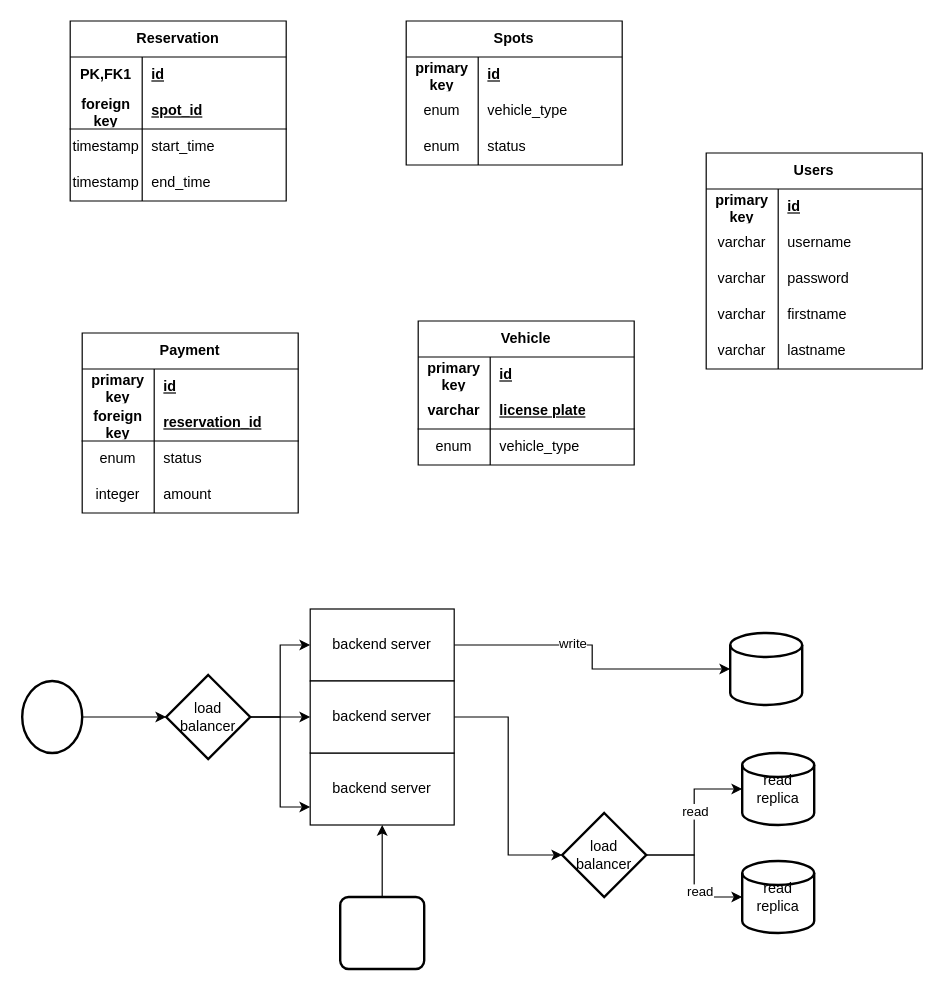
This 943x991 diagram has some shape labels left out. Here are the shapes that lost their labels. From the top down, the centre of each, then its label:
(765,668): postgres DB
(51,716): user
(381,932): third party payment service
